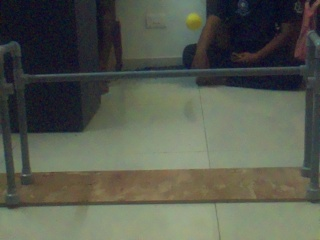ball: (186, 13, 201, 29)
